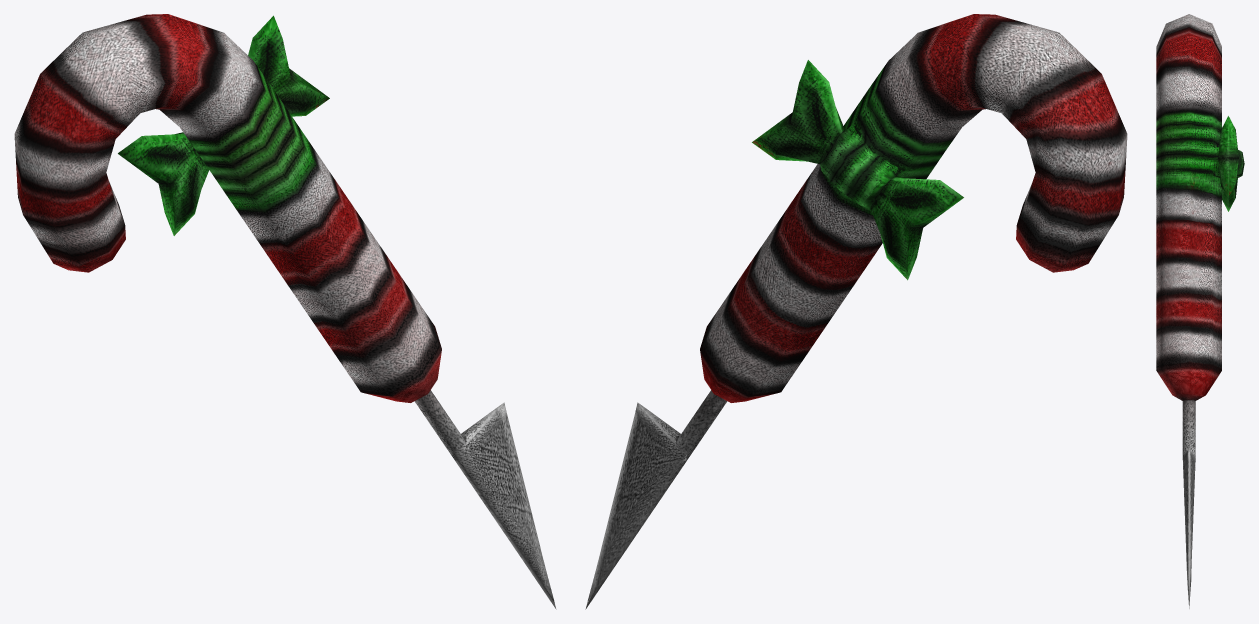
File: BACK_CANDY_CANE.fbx
3 renders of one model, left to right at view 1: azimuth 30°, elevation 25°; view 2: azimuth 150°, elevation 25°; view 3: azimuth 270°, elevation 25°, orthographic. The views are drawn at different scales.
Visible parts, largest first — view 1: BACK_CANDY_CANE; view 2: BACK_CANDY_CANE; view 3: BACK_CANDY_CANE.
Boxes of the visible parts, x1=… form: BACK_CANDY_CANE: x1=14, y1=14, x2=556, y2=609; BACK_CANDY_CANE: x1=585, y1=14, x2=1127, y2=609; BACK_CANDY_CANE: x1=1156, y1=14, x2=1244, y2=608.
Size of the model in its own units: 0.0488 by 0.06 by 0.0107.
